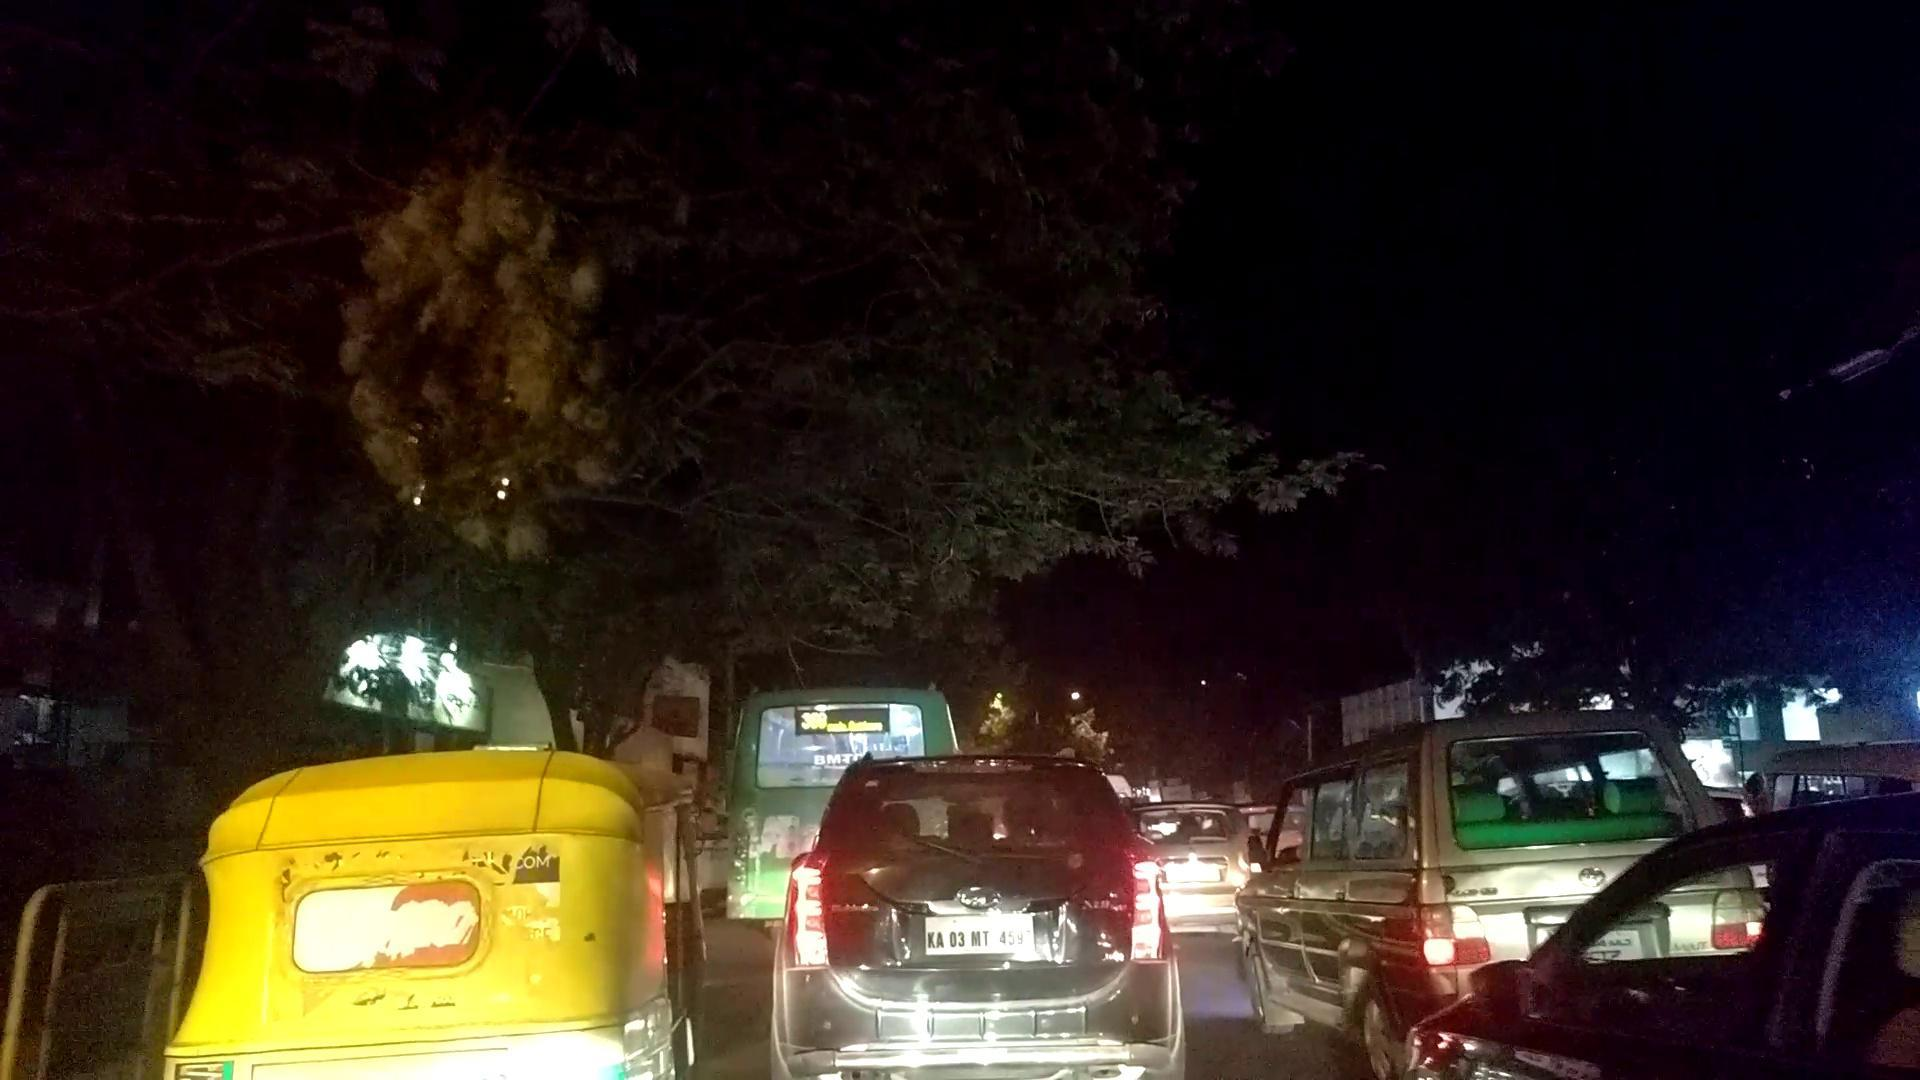on: (70, 3, 1895, 1080)
